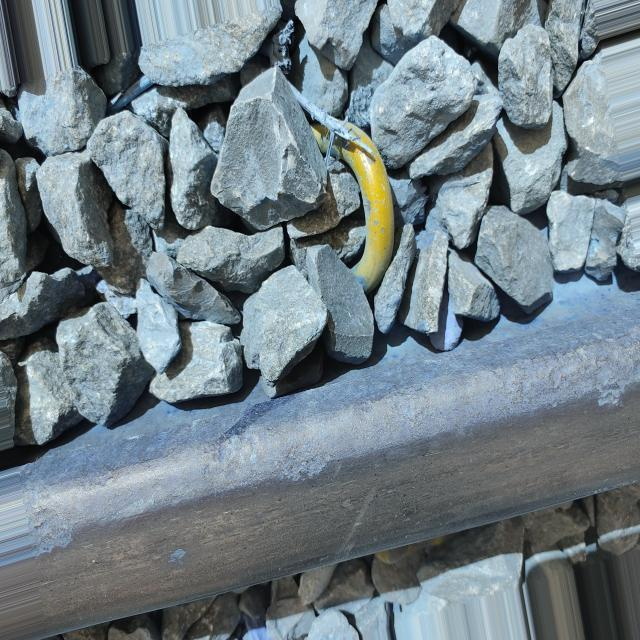broken_rail_medium: (32, 516, 75, 560), (288, 455, 327, 485), (597, 380, 630, 408), (169, 545, 190, 567)
